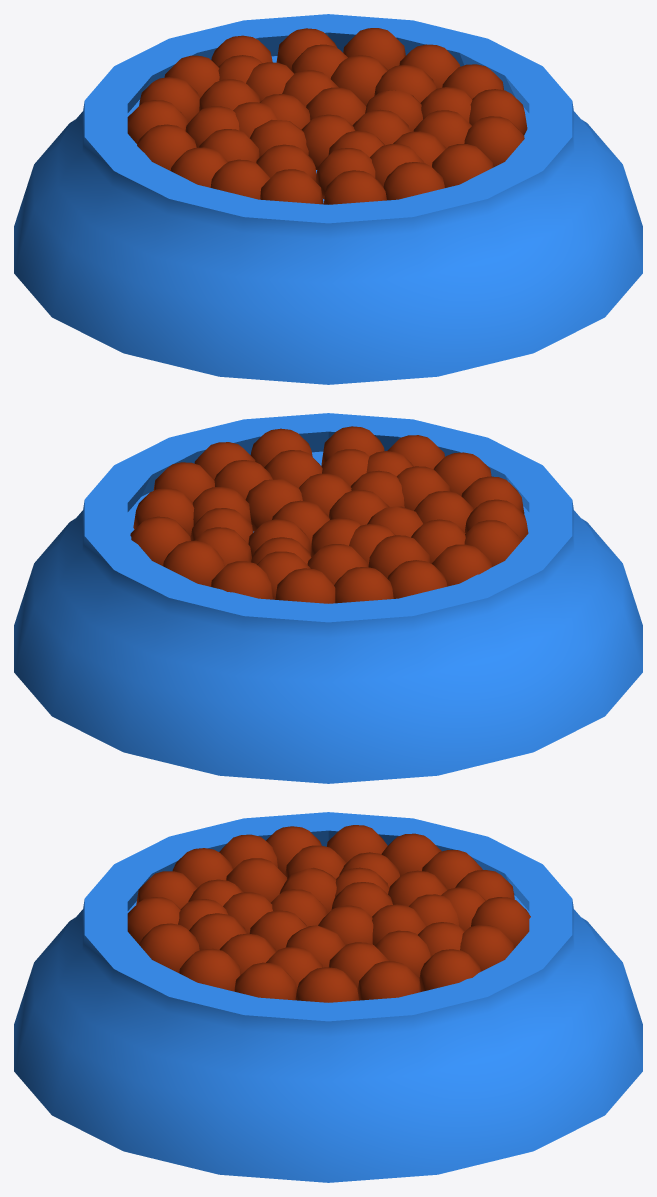
The model's file is FOODBOWL.fbx.
3 views of the same model, one above another, from view 1: azimuth 30°, elevation 25°; view 2: azimuth 150°, elevation 25°; view 3: azimuth 270°, elevation 25° (orthographic).
Visible parts, largest first — view 1: Cylinder001, Sphere007; view 2: Cylinder001, Sphere007; view 3: Cylinder001, Sphere007.
Part boxes in pixels (left/top/right/bottom): Cylinder001: left=14, top=14, right=642, bottom=384; Sphere007: left=127, top=28, right=527, bottom=204; Cylinder001: left=14, top=413, right=642, bottom=783; Sphere007: left=130, top=426, right=528, bottom=603; Cylinder001: left=14, top=812, right=642, bottom=1182; Sphere007: left=127, top=825, right=530, bottom=1002.
Size of the model in its own units: 48.03 by 12.3 by 47.3.
